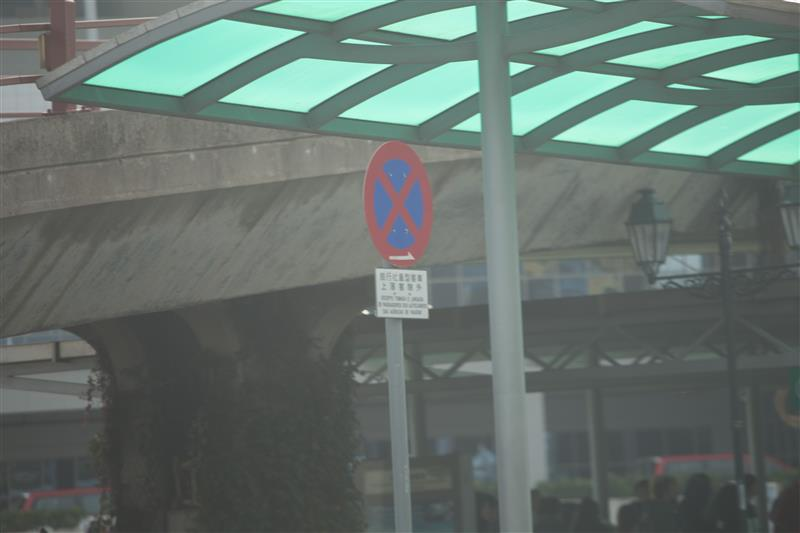noStopping: (362, 139, 436, 267)
